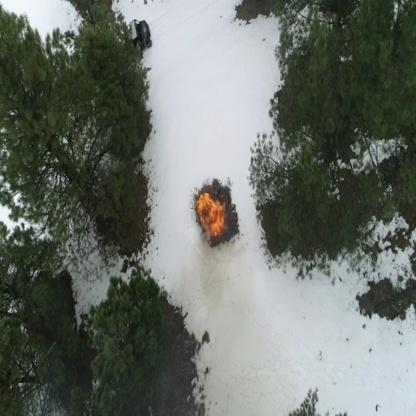Fire: (198, 191, 224, 246)
